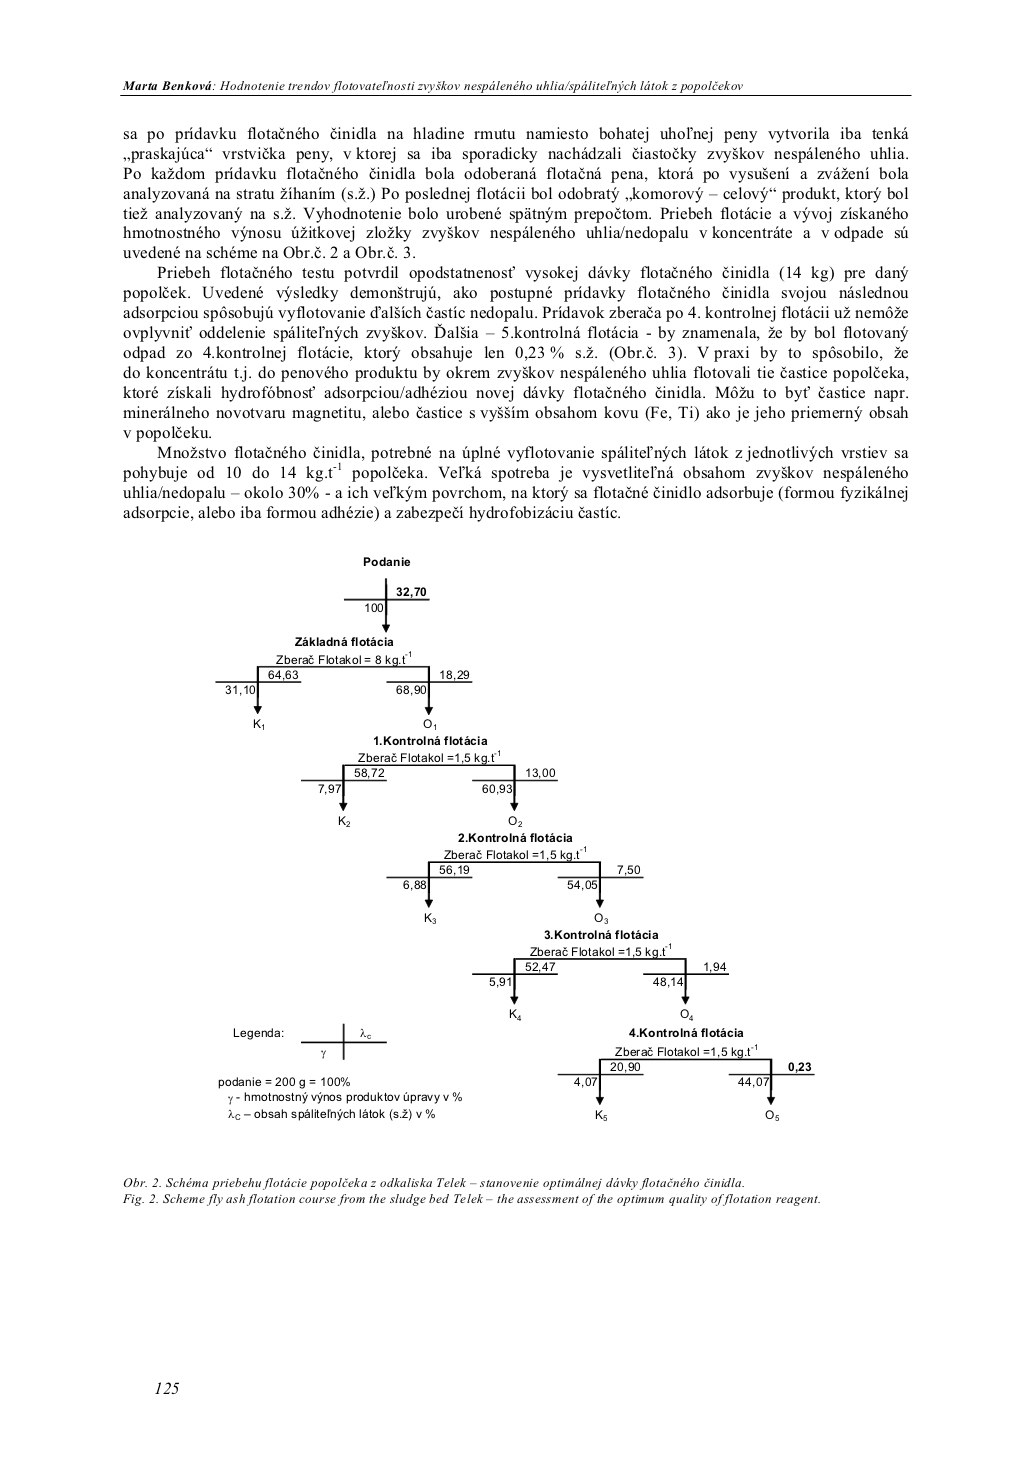figure: (215, 557, 815, 1120)
